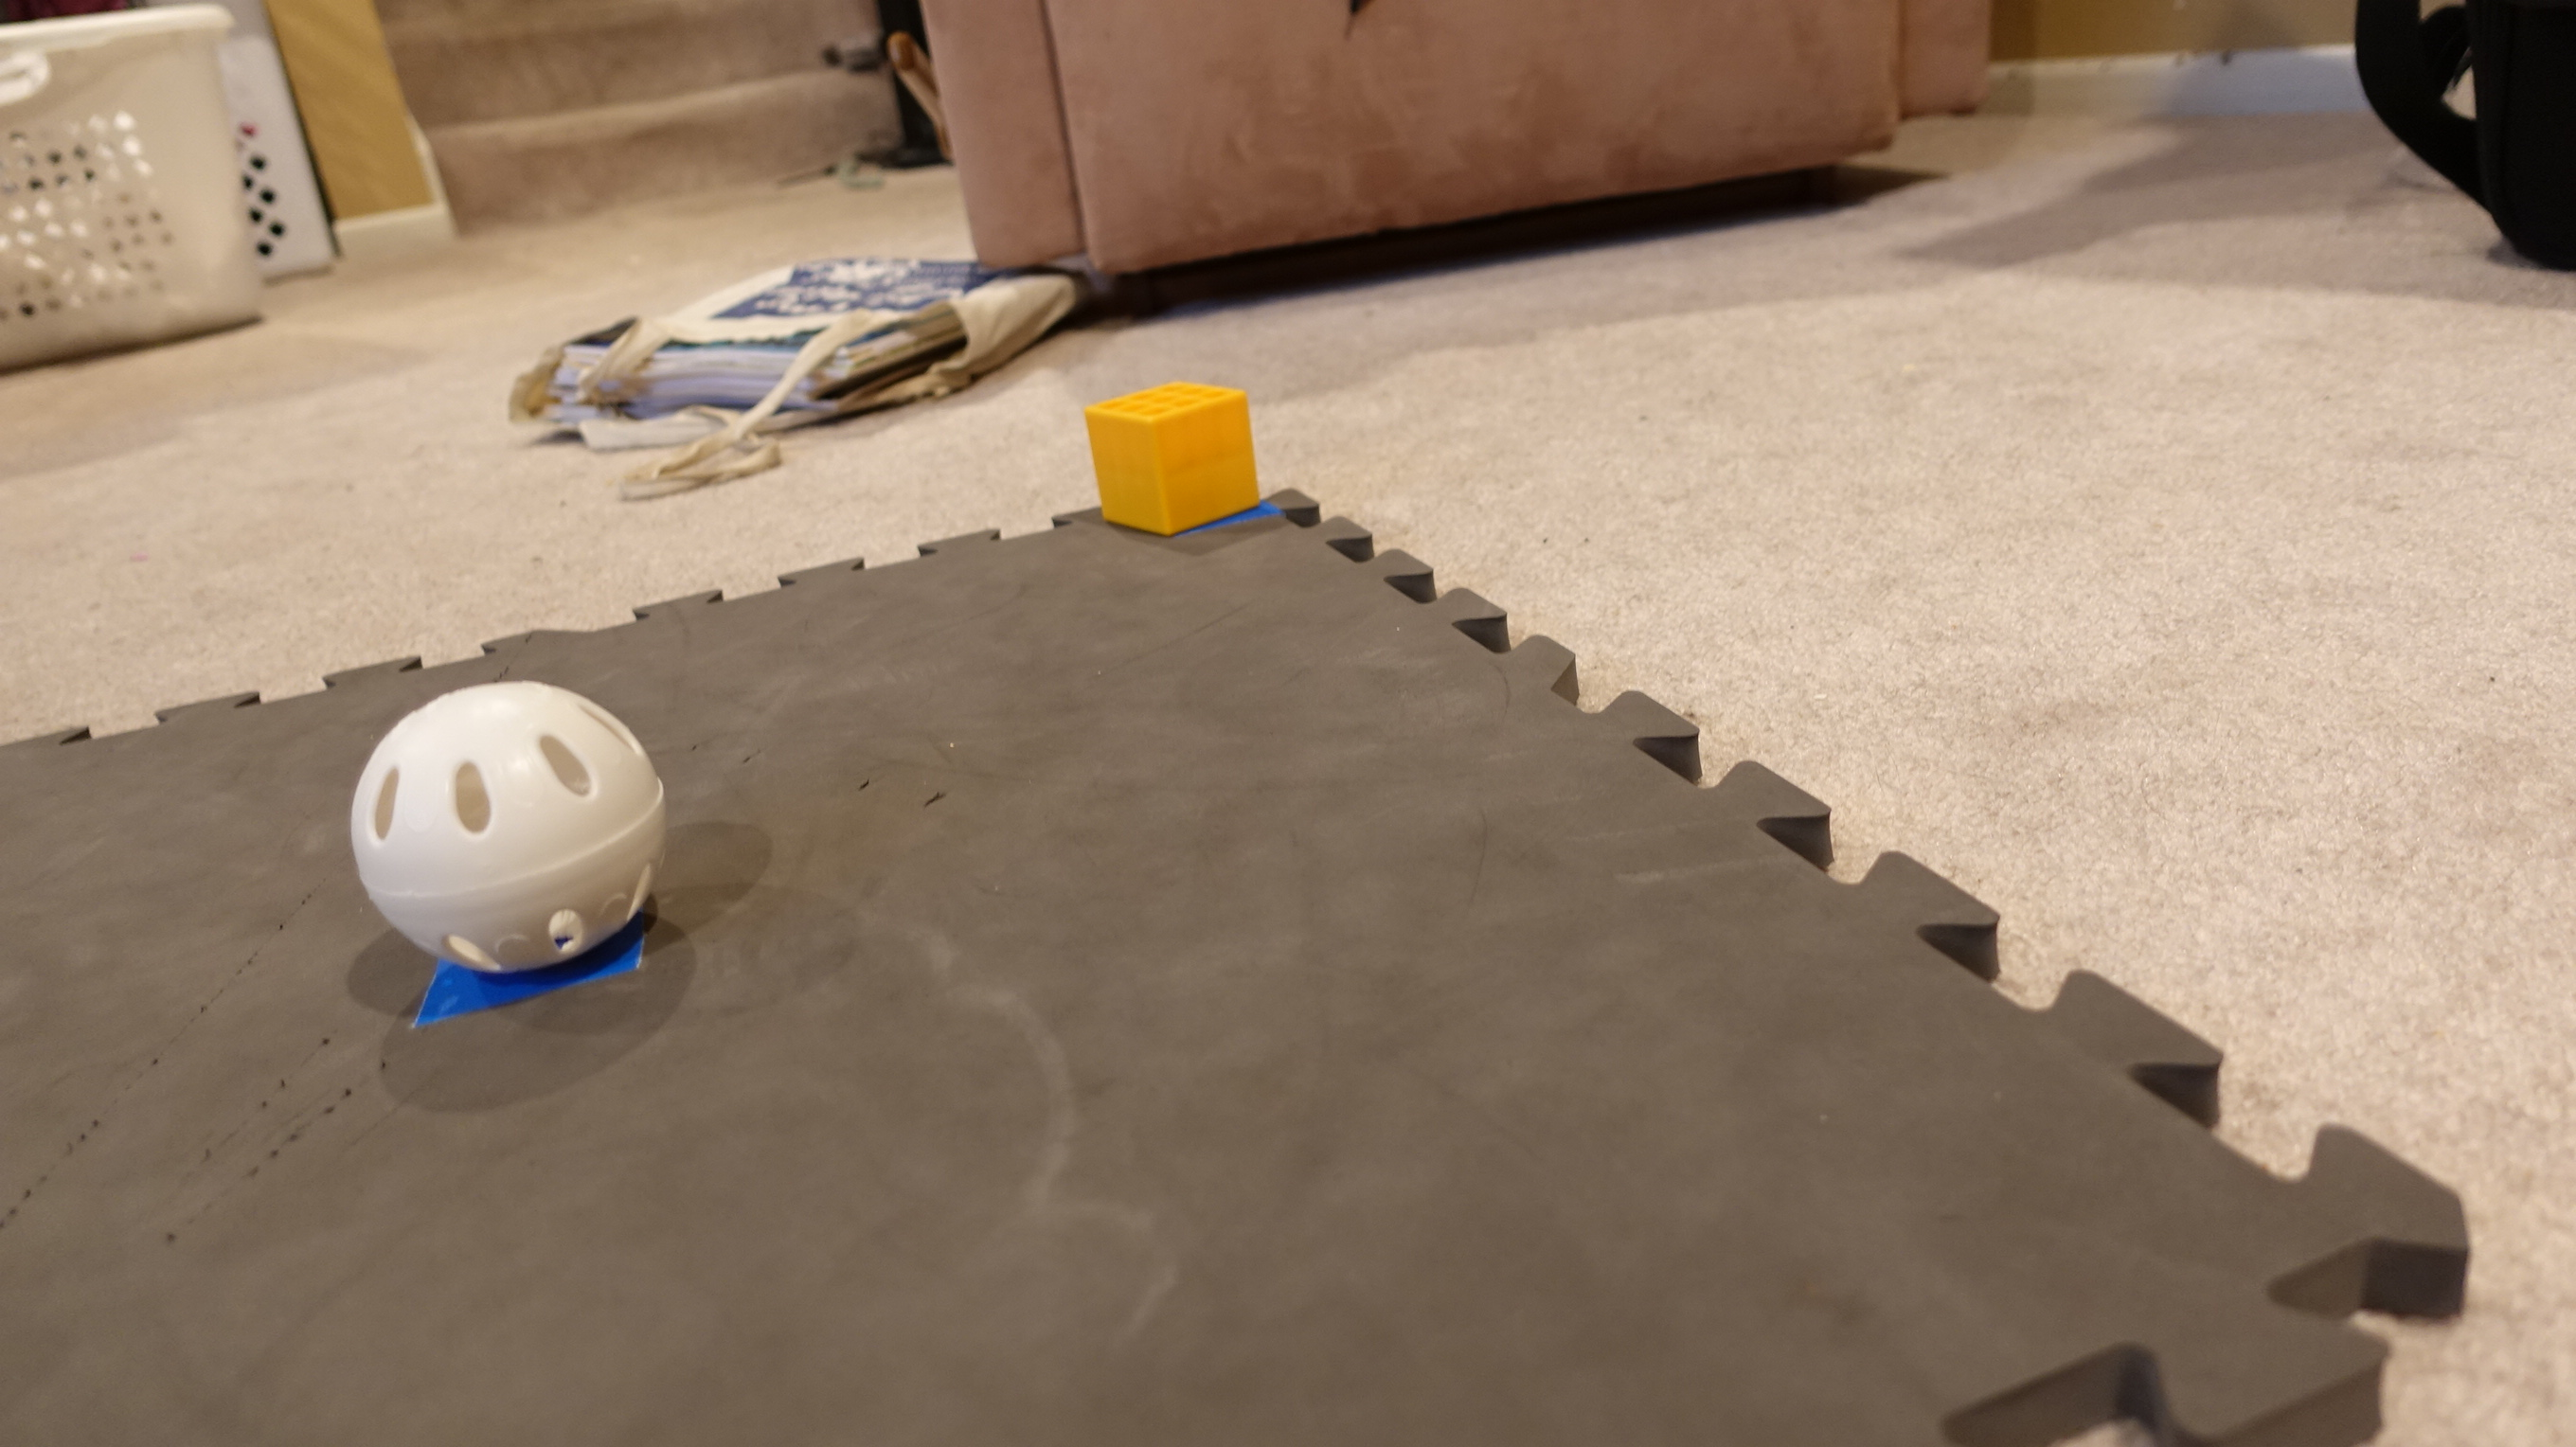gold: (1069, 380, 1265, 541)
silver: (338, 672, 669, 973)
